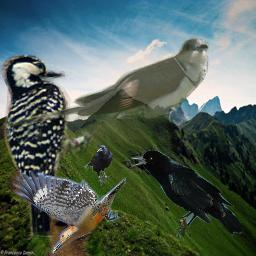Crow: (131, 150, 242, 239), (82, 143, 113, 186)
Cuckoo: (0, 36, 209, 131)
Woodpecker: (0, 51, 97, 237), (12, 170, 126, 255)
